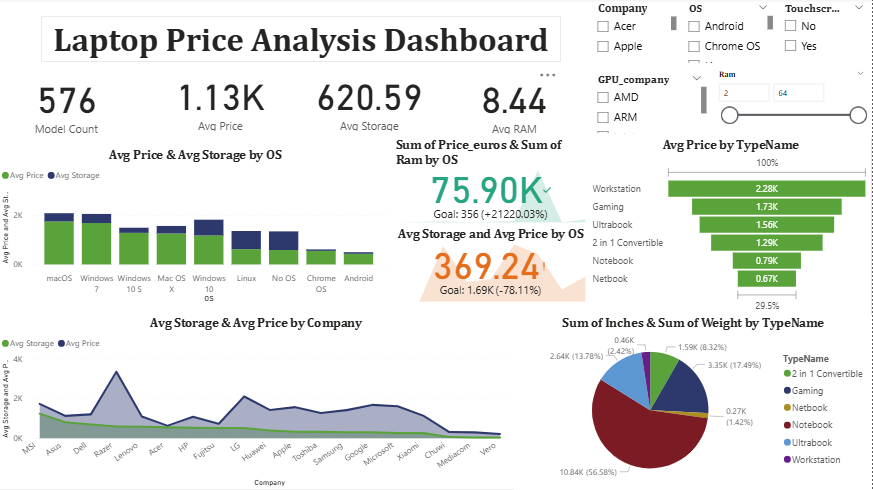

This screenshot's page, from the dashboard's own definition file:
{"tool":"powerbi","page":{"name":"Page 1","canvas":[1280,720],"ordinal":0},"visuals":[{"type":"lineStackedColumnComboChart","title":"Avg Price & Avg Storage by OS","fields":{"Category":["Sheet1.OS"],"Y":["Sheet1.Avg Price","Sheet1.Avg Storage"]},"box":[0,217.4,576.8,231.9],"z":0},{"type":"pieChart","title":"Sum of Inches & Sum of Weight by TypeName","fields":{"Series":["Sheet1.TypeName"],"Y":["Sum(Sheet1.Inches)"]},"box":[755.1,463.8,524.6,256.5],"z":1000},{"type":"funnel","fields":{"Y":["Sheet1.Avg Price"],"Category":["Sheet1.TypeName"]},"box":[865.2,202.9,414.5,260.9],"z":2000},{"type":"areaChart","title":"Avg Storage & Avg Price by Company","fields":{"Category":["Sheet1.Company"],"Y":["Sheet1.Avg Storage","Sheet1.Avg Price"]},"box":[0,463.7,754.6,256.3],"z":3000},{"type":"slicer","fields":{"Values":["Sheet1.Touchscreen"]},"box":[1139.1,0,140.6,100],"z":4000},{"type":"slicer","fields":{"Values":["Sheet1.Company"]},"box":[865.2,0,133.3,94.2],"z":5000},{"type":"slicer","fields":{"Values":["Sheet1.OS"]},"box":[998.6,0,140.6,100],"z":6000},{"type":"slicer","fields":{"Values":["Sheet1.GPU_company"]},"box":[865.2,104.3,176.8,98.6],"z":7000},{"type":"slicer","fields":{"Values":["Sheet1.Ram"]},"box":[1042,100,237.7,102.9],"z":8000},{"type":"kpi","fields":{"Indicator":["Sheet1.Avg Storage"],"TrendLine":["Sheet1.OS"],"Goal":["Sheet1.Avg Price"]},"box":[576.8,333.3,288.4,115.9],"z":9000},{"type":"kpi","title":"Sum of Price_euros & Sum of Ram by OS","fields":{"TrendLine":["Sheet1.OS"],"Indicator":["Sum(Sheet1.Price_euros)"],"Goal":["Sum(Sheet1.Ram)"]},"box":[576.8,202.9,288.4,130.4],"z":10000},{"type":"card","fields":{"Values":["Sheet1.Avg Price"]},"box":[224.6,100,200,100],"z":11000},{"type":"card","fields":{"Values":["Sheet1.Avg RAM"]},"box":[655.1,104.3,200,100],"z":12000},{"type":"card","fields":{"Values":["Sheet1.Avg Storage"]},"box":[443.5,100,200,100],"z":13000},{"type":"card","fields":{"Values":["Sheet1.Model Count"]},"box":[0,104.3,200,100],"z":14000},{"type":"textbox","box":[62.3,26.1,760.9,68.1],"z":15000}]}

Visuals, with their boxes in screenshot pixels (x1, y1, x2, y2), scaled from the page's 1280x720 canvas onto the 873x490 screenshot:
"Avg Price & Avg Storage by OS" lineStackedColumnComboChart: 0:148:393:306
"Sum of Inches & Sum of Weight by TypeName" pieChart: 515:316:872:489
funnel - Sheet1.Avg Price x Sheet1.TypeName: 590:138:872:316
"Avg Storage & Avg Price by Company" areaChart: 0:316:515:489
slicer - Sheet1.Touchscreen: 777:0:872:68
slicer - Sheet1.Company: 590:0:681:64
slicer - Sheet1.OS: 681:0:777:68
slicer - Sheet1.GPU_company: 590:71:711:138
slicer - Sheet1.Ram: 711:68:872:138
kpi - Sheet1.Avg Storage x Sheet1.OS: 393:227:590:306
"Sum of Price_euros & Sum of Ram by OS" kpi: 393:138:590:227
card - Sheet1.Avg Price: 153:68:290:136
card - Sheet1.Avg RAM: 447:71:583:139
card - Sheet1.Avg Storage: 302:68:439:136
card - Sheet1.Model Count: 0:71:136:139
textbox: 42:18:561:64
